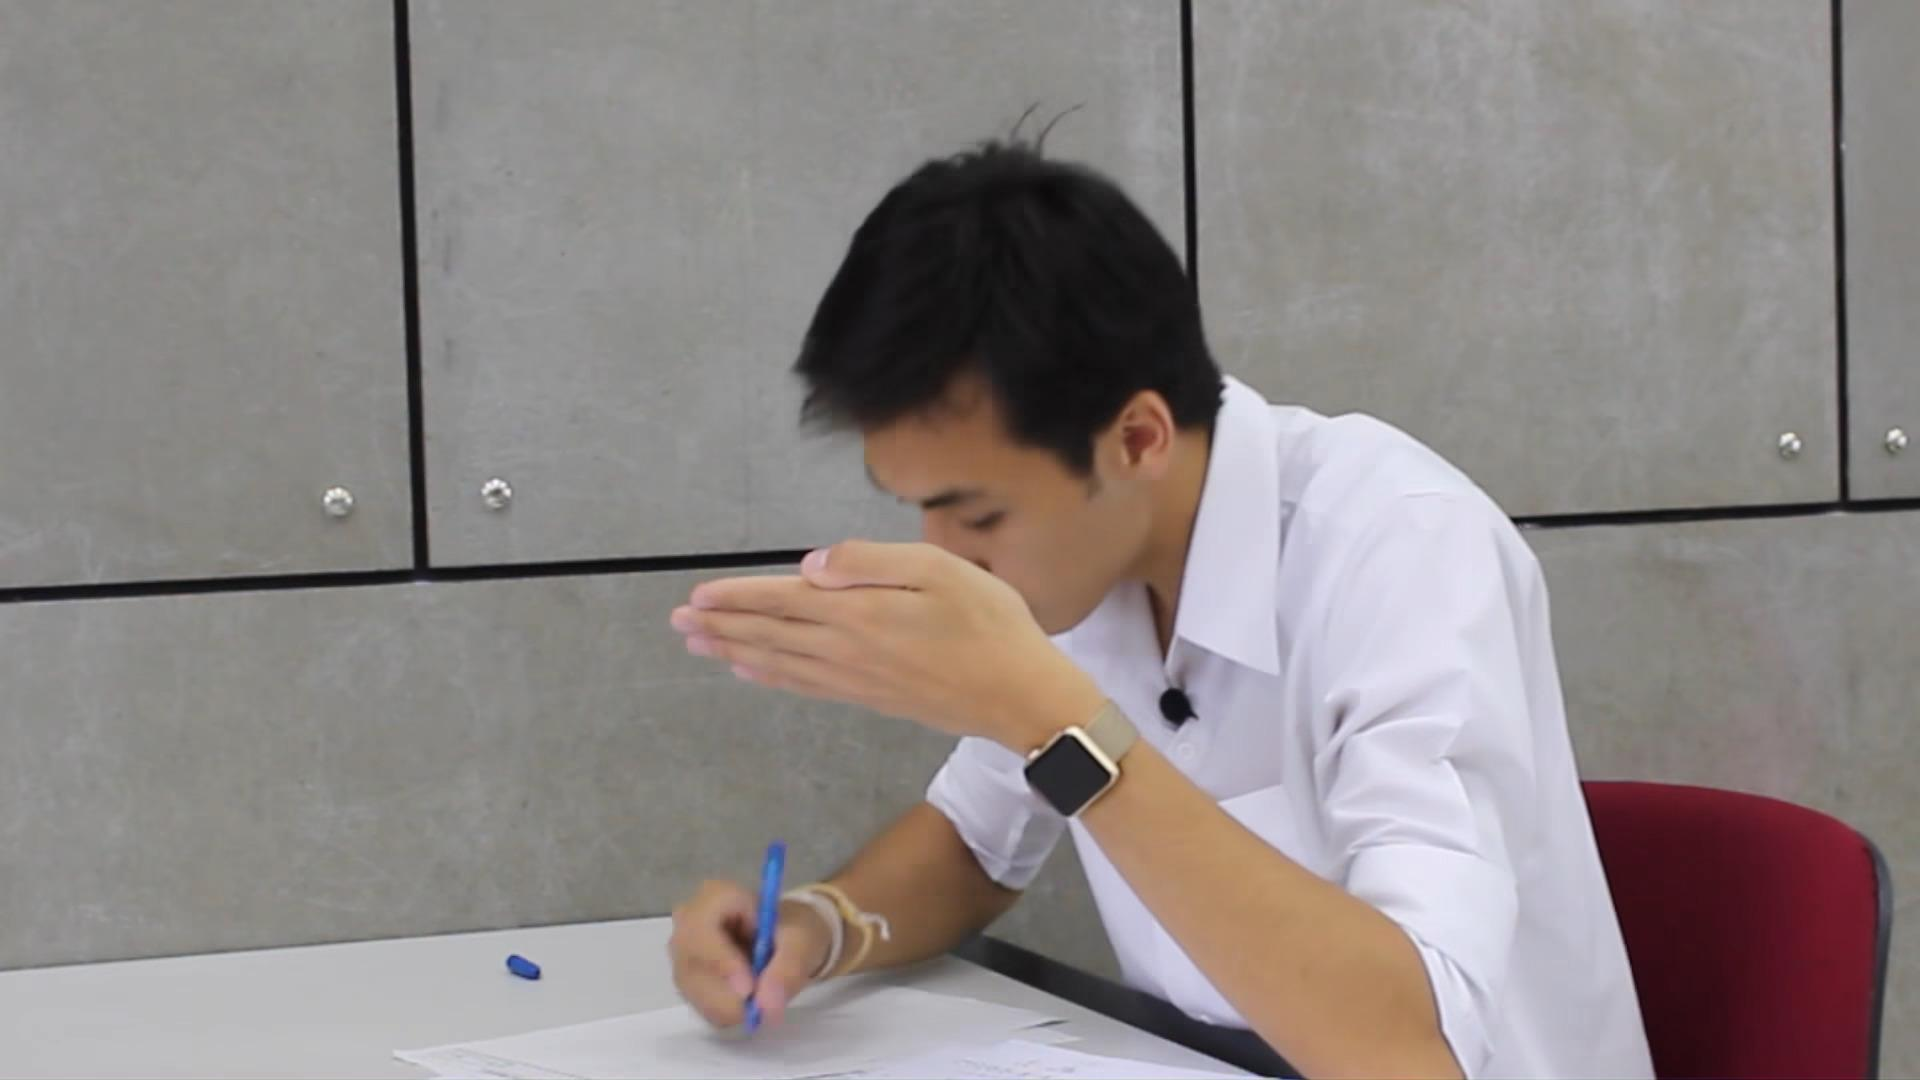cheating: (371, 78, 1691, 1080)
